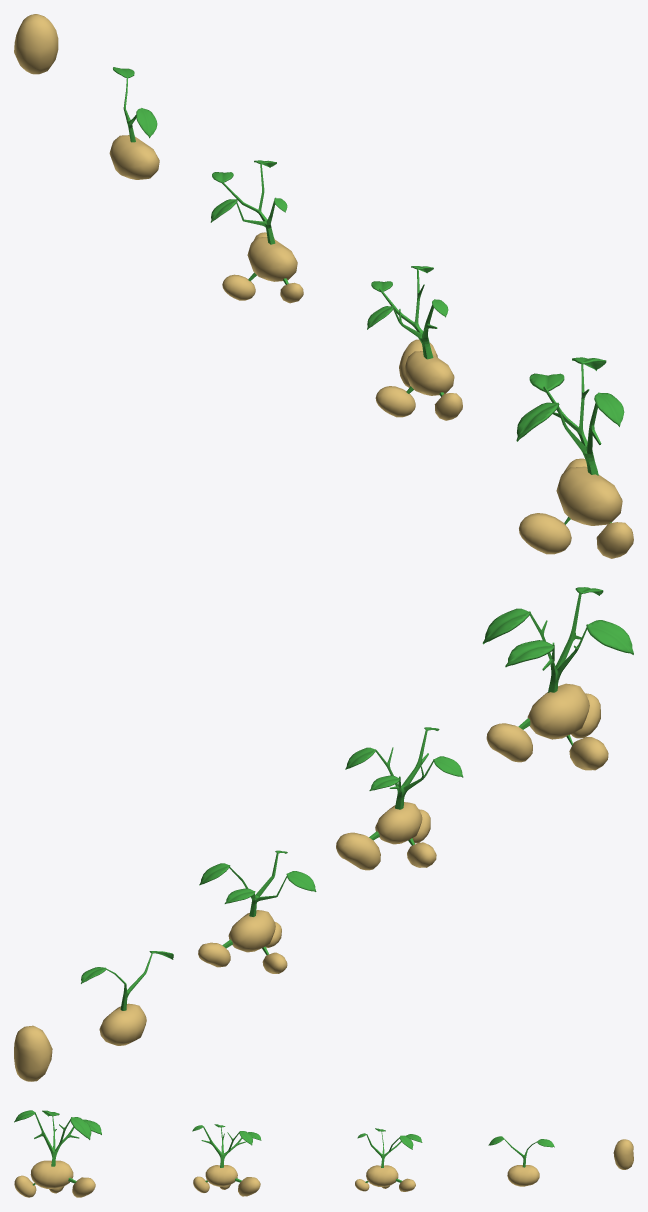
Rendered from Potato.fbx.
3 renders of one model, top to bottom at view 1: azimuth 30°, elevation 25°; view 2: azimuth 150°, elevation 25°; view 3: azimuth 270°, elevation 25°, orthographic. The views are drawn at different scales.
Parts seen in each view (by area): view 1: Stage 4, Stage 3, Stage 2, Stage 1, Potato; view 2: Stage 4, Stage 3, Stage 2, Stage 1, Potato; view 3: Stage 4, Stage 3, Stage 2, Stage 1, Potato.
Part boxes in pixels (x1,y1,x2,y2): Stage 4: [516, 357, 633, 558]; Stage 3: [367, 266, 462, 420]; Stage 2: [210, 160, 303, 303]; Stage 1: [109, 67, 159, 179]; Potato: [14, 14, 58, 74]; Stage 4: [482, 587, 633, 770]; Stage 3: [336, 727, 463, 870]; Stage 2: [198, 850, 316, 973]; Stage 1: [81, 951, 173, 1045]; Potato: [14, 1025, 52, 1081]; Stage 4: [14, 1110, 101, 1197]; Stage 3: [192, 1124, 261, 1196]; Stage 2: [355, 1128, 422, 1191]; Stage 1: [488, 1136, 554, 1186]; Potato: [613, 1139, 633, 1169].
Bounding box in the file's own units: 20.34 × 26.95 × 175.
